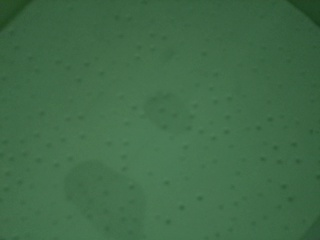Water_detected: (71, 171, 136, 232), (148, 93, 189, 138), (6, 229, 27, 240)
